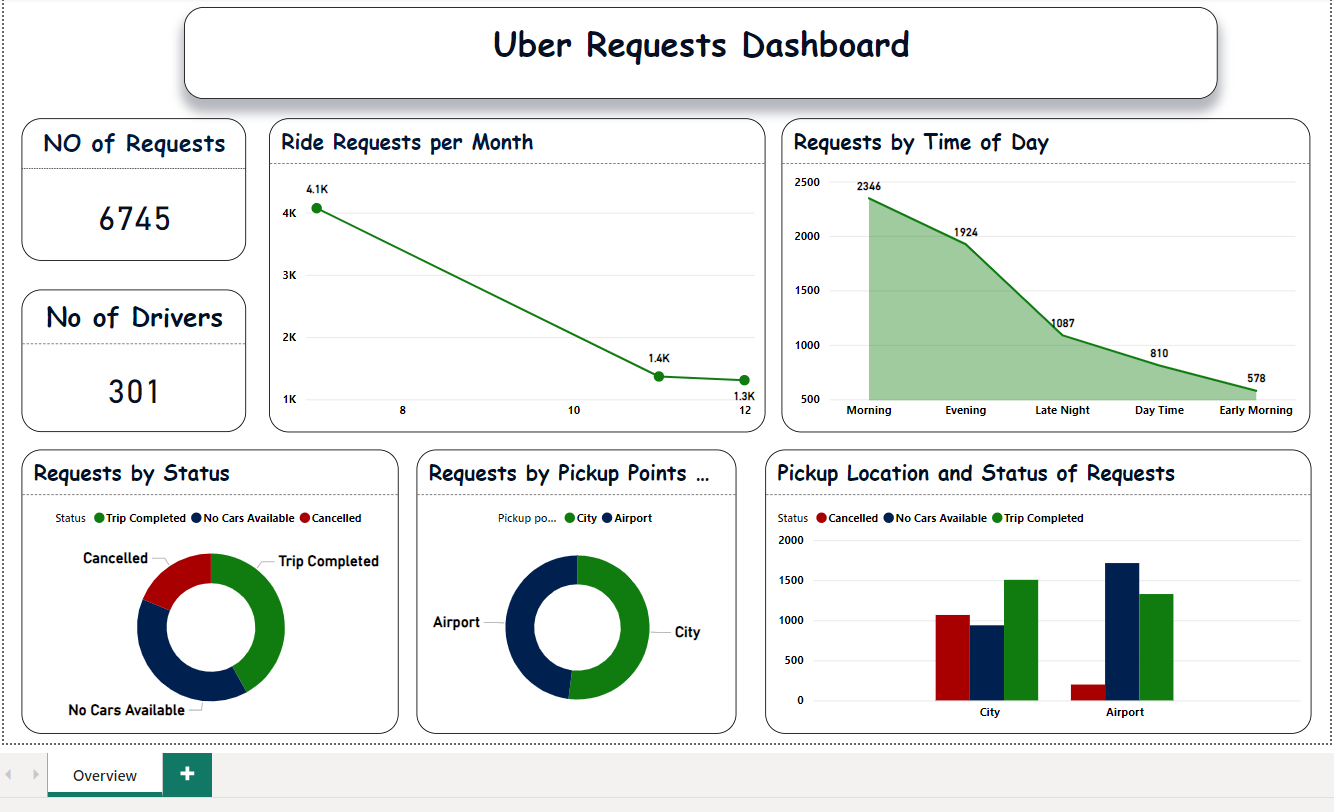

The page's visual inventory and layout, read from the dashboard file:
{"tool":"powerbi","page":{"name":"Overview","canvas":[1280,720],"ordinal":0},"visuals":[{"type":"card","title":"No of Drivers","fields":{"Values":["My Measures.No of Drivers"]},"box":[16.5,282.7,216.8,137.2],"z":0},{"type":"card","title":"NO of Requests","fields":{"Values":["My Measures.No of Requests"]},"box":[16.5,116.6,216.8,137.2],"z":1000},{"type":"donutChart","title":"Requests by Pickup Points Overview","fields":{"Category":["Uber Request Data.Pickup point"],"Y":["Count(Uber Request Data.Request id)"]},"box":[397.9,436.4,308.7,274.4],"z":2000},{"type":"donutChart","title":"Requests by Status","fields":{"Category":["Uber Request Data.Status"],"Y":["Count(Uber Request Data.Request id)"]},"box":[16.5,436.4,363.6,274.4],"z":4000},{"type":"lineChart","title":"Ride Requests per Month ","fields":{"Category":["Uber Request Data.month"],"Y":["My Measures.No of Requests"]},"box":[255.2,116.6,478.9,303.3],"z":8000},{"type":"textbox","box":[174.3,9.6,997.6,89.2],"z":8001},{"type":"areaChart","title":"Requests by Time of Day","fields":{"Category":["Uber Request Data.Time period"],"Y":["My Measures.No of Requests"]},"box":[750.6,116.6,510.5,303.3],"z":8002},{"type":"clusteredColumnChart","title":"Pickup Location and Status of Requests","fields":{"Category":["Uber Request Data.Pickup point"],"Y":["My Measures.No of Requests"],"Series":["Uber Request Data.Status"]},"box":[734.1,436.4,526.9,274.4],"z":8003}]}

Visuals, with their boxes in screenshot pixels (x1, y1, x2, y2):
"No of Drivers" card: [left=24, top=308, right=247, bottom=449]
"NO of Requests" card: [left=24, top=137, right=247, bottom=278]
"Requests by Pickup Points Overview" donutChart: [left=416, top=466, right=733, bottom=748]
"Requests by Status" donutChart: [left=24, top=466, right=398, bottom=748]
"Ride Requests per Month " lineChart: [left=269, top=137, right=761, bottom=449]
textbox: [left=186, top=27, right=1211, bottom=119]
"Requests by Time of Day" areaChart: [left=778, top=137, right=1303, bottom=449]
"Pickup Location and Status of Requests" clusteredColumnChart: [left=761, top=466, right=1303, bottom=748]
